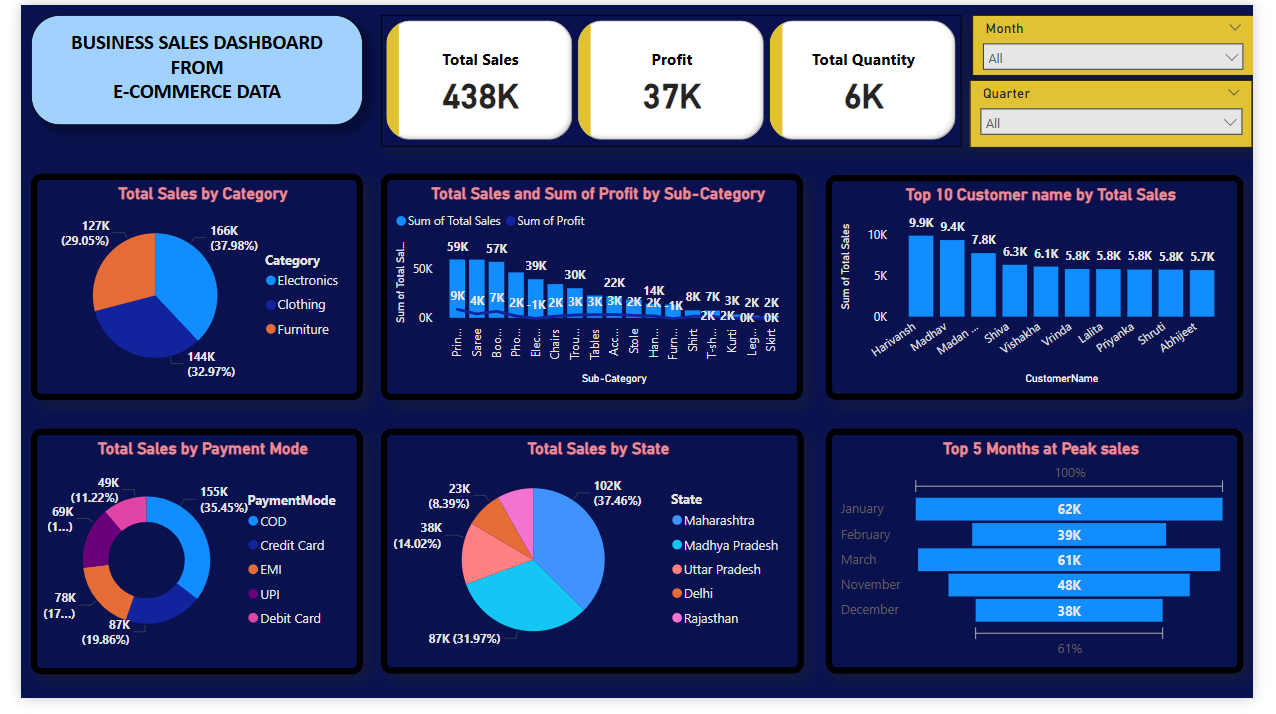

The page's visual inventory and layout, read from the dashboard file:
{"tool":"powerbi","page":{"name":"Page 1","canvas":[1280,720],"ordinal":0},"visuals":[{"type":"textbox","box":[11,11,345.1,114.6],"z":0},{"type":"cardVisual","fields":{"Data":["Details(1st task).Total Sales","Details(1st task).Profit","Details(1st task).Quantity"]},"box":[373.8,10.8,603.1,136.9],"z":1000},{"type":"slicer","fields":{"Values":["Orders (1).Order Date.Variation.Date Hierarchy.Month"]},"box":[987.8,11,292.7,63.4],"z":2000},{"type":"slicer","fields":{"Values":["Orders (1).Order Date.Variation.Date Hierarchy.Quarter"]},"box":[986.2,78.5,293.8,70.8],"z":3000},{"type":"pieChart","title":" Total Sales by Category","fields":{"Y":["Details(1st task).Total Sales"],"Category":["Details(1st task).Category"]},"box":[10.8,175.4,344.6,235.4],"z":4000},{"type":"lineClusteredColumnComboChart","title":"Total Sales and Sum of Profit by Sub-Category","fields":{"Category":["Details(1st task).Sub-Category"],"Y":["Details(1st task).Total Sales"],"Y2":["Details(1st task).Profit"]},"box":[373.8,175.4,438.5,235.4],"z":5000},{"type":"columnChart","title":"Top 10 Customer name by Total Sales","fields":{"Y":["Details(1st task).Total Sales"],"Category":["Orders (1).CustomerName"]},"box":[836.4,176.6,433.8,233.8],"z":6000},{"type":"donutChart","title":" Total Sales by Payment Mode","fields":{"Y":["Details(1st task).Total Sales"],"Category":["Details(1st task).PaymentMode"]},"box":[10.8,440,344.6,255.4],"z":7000},{"type":"pieChart","title":" Total Sales by State","fields":{"Category":["Orders (1).State"],"Y":["Details(1st task).Total Sales"]},"box":[374,440.3,439,254.5],"z":8000},{"type":"funnel","title":"Top 5 Months at Peak sales","fields":{"Y":["Details(1st task).Total Sales"],"Category":["Orders (1).Order Date.Variation.Date Hierarchy.Month"]},"box":[836.4,440.3,433.8,254.5],"z":9000}]}

Visuals, with their boxes in screenshot pixels (x1, y1, x2, y2), scaled from the page's 1280x720 canvas onto the 1276x714 screenshot:
textbox: locate(11, 11, 355, 125)
cardVisual - Details(1st task).Total Sales x Details(1st task).Profit: locate(373, 11, 974, 146)
slicer - Orders (1).Order Date.Variation.Date Hierarchy.Month: locate(985, 11, 1275, 74)
slicer - Orders (1).Order Date.Variation.Date Hierarchy.Quarter: locate(983, 78, 1275, 148)
" Total Sales by Category" pieChart: locate(11, 174, 354, 407)
"Total Sales and Sum of Profit by Sub-Category" lineClusteredColumnComboChart: locate(373, 174, 810, 407)
"Top 10 Customer name by Total Sales" columnChart: locate(834, 175, 1266, 407)
" Total Sales by Payment Mode" donutChart: locate(11, 436, 354, 690)
" Total Sales by State" pieChart: locate(373, 437, 810, 689)
"Top 5 Months at Peak sales" funnel: locate(834, 437, 1266, 689)
